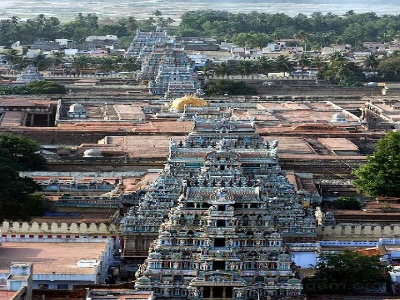gopura: (150, 138, 318, 286)
